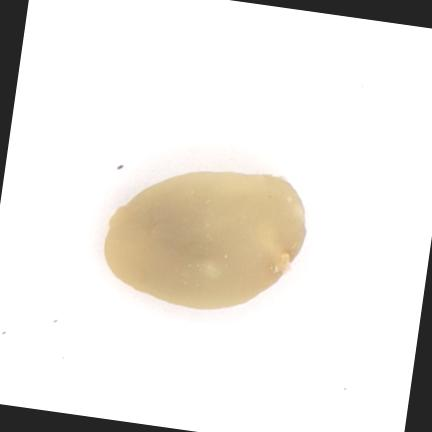parchment: (105, 171, 304, 308)
